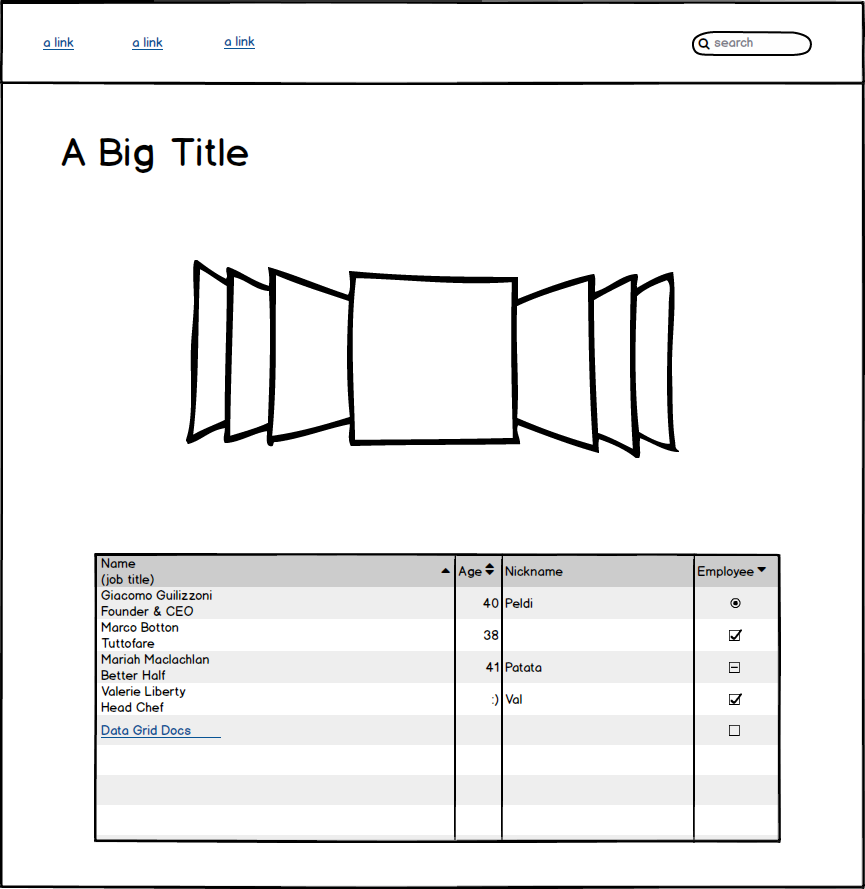h1: (51, 121, 256, 177)
navlink: (128, 29, 171, 59), (218, 31, 267, 56), (38, 32, 86, 52)
search: (683, 24, 821, 61)
slideshow: (174, 247, 690, 470)
table: (87, 544, 788, 852)
